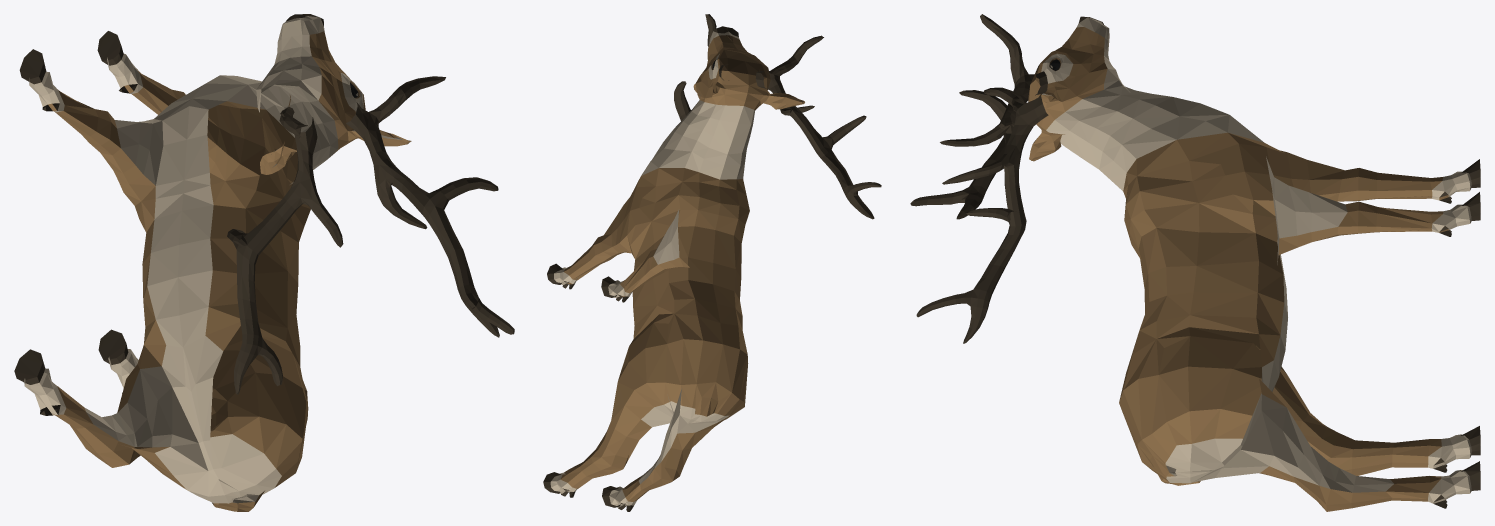
Rendered from stag-idle-2.glb.
3 views of the same model, side by side, from view 1: azimuth 30°, elevation 25°; view 2: azimuth 150°, elevation 25°; view 3: azimuth 270°, elevation 25° (orthographic). The views are drawn at different scales.
Bounding box in the file's own units: 0.8689 × 1.65 × 1.78.
